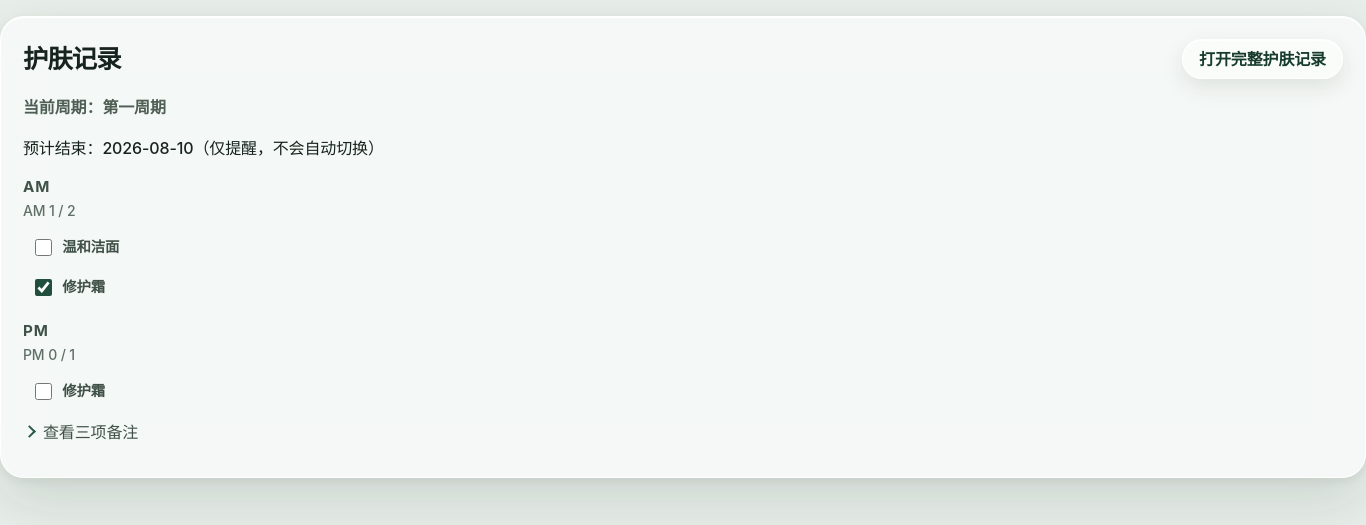
it: TodaySkincareCard › checks one selected-day item through the shared manual endpoint and applies only the confirmed snapshot
This screenshot has width=1366, height=525.
Click the checkbox named "AM 温和洁面已使用" at (44, 247), box [35, 239, 52, 256]
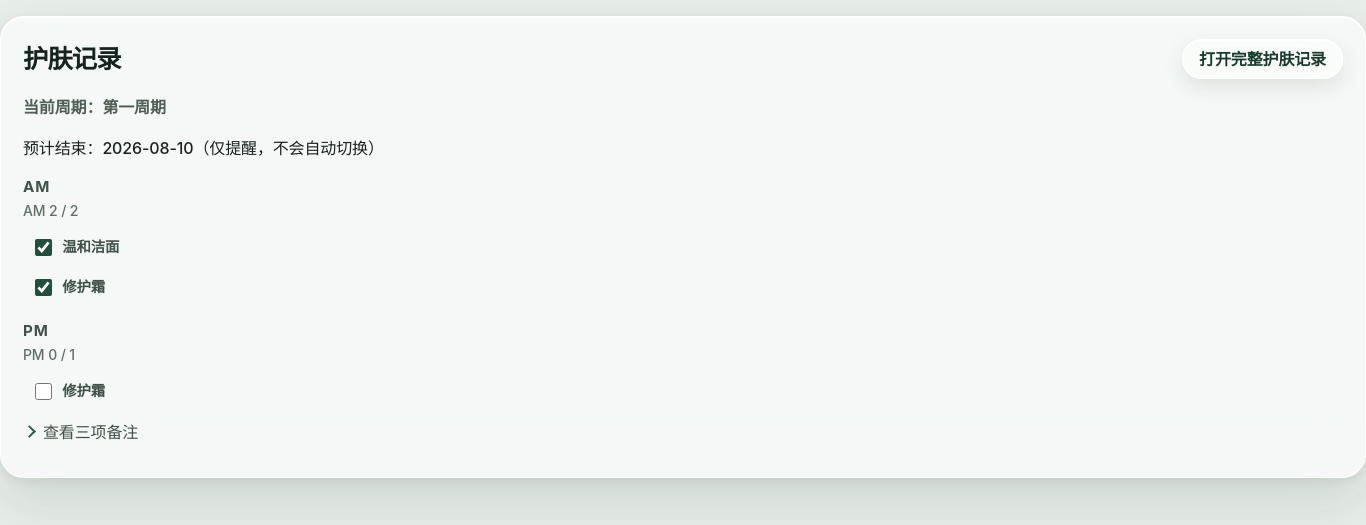
Result: the checkbox named "AM 温和洁面已使用" is checked at [35, 239, 52, 256]
Result: the text "AM 2 / 2" is shown at [23, 202, 78, 219]
